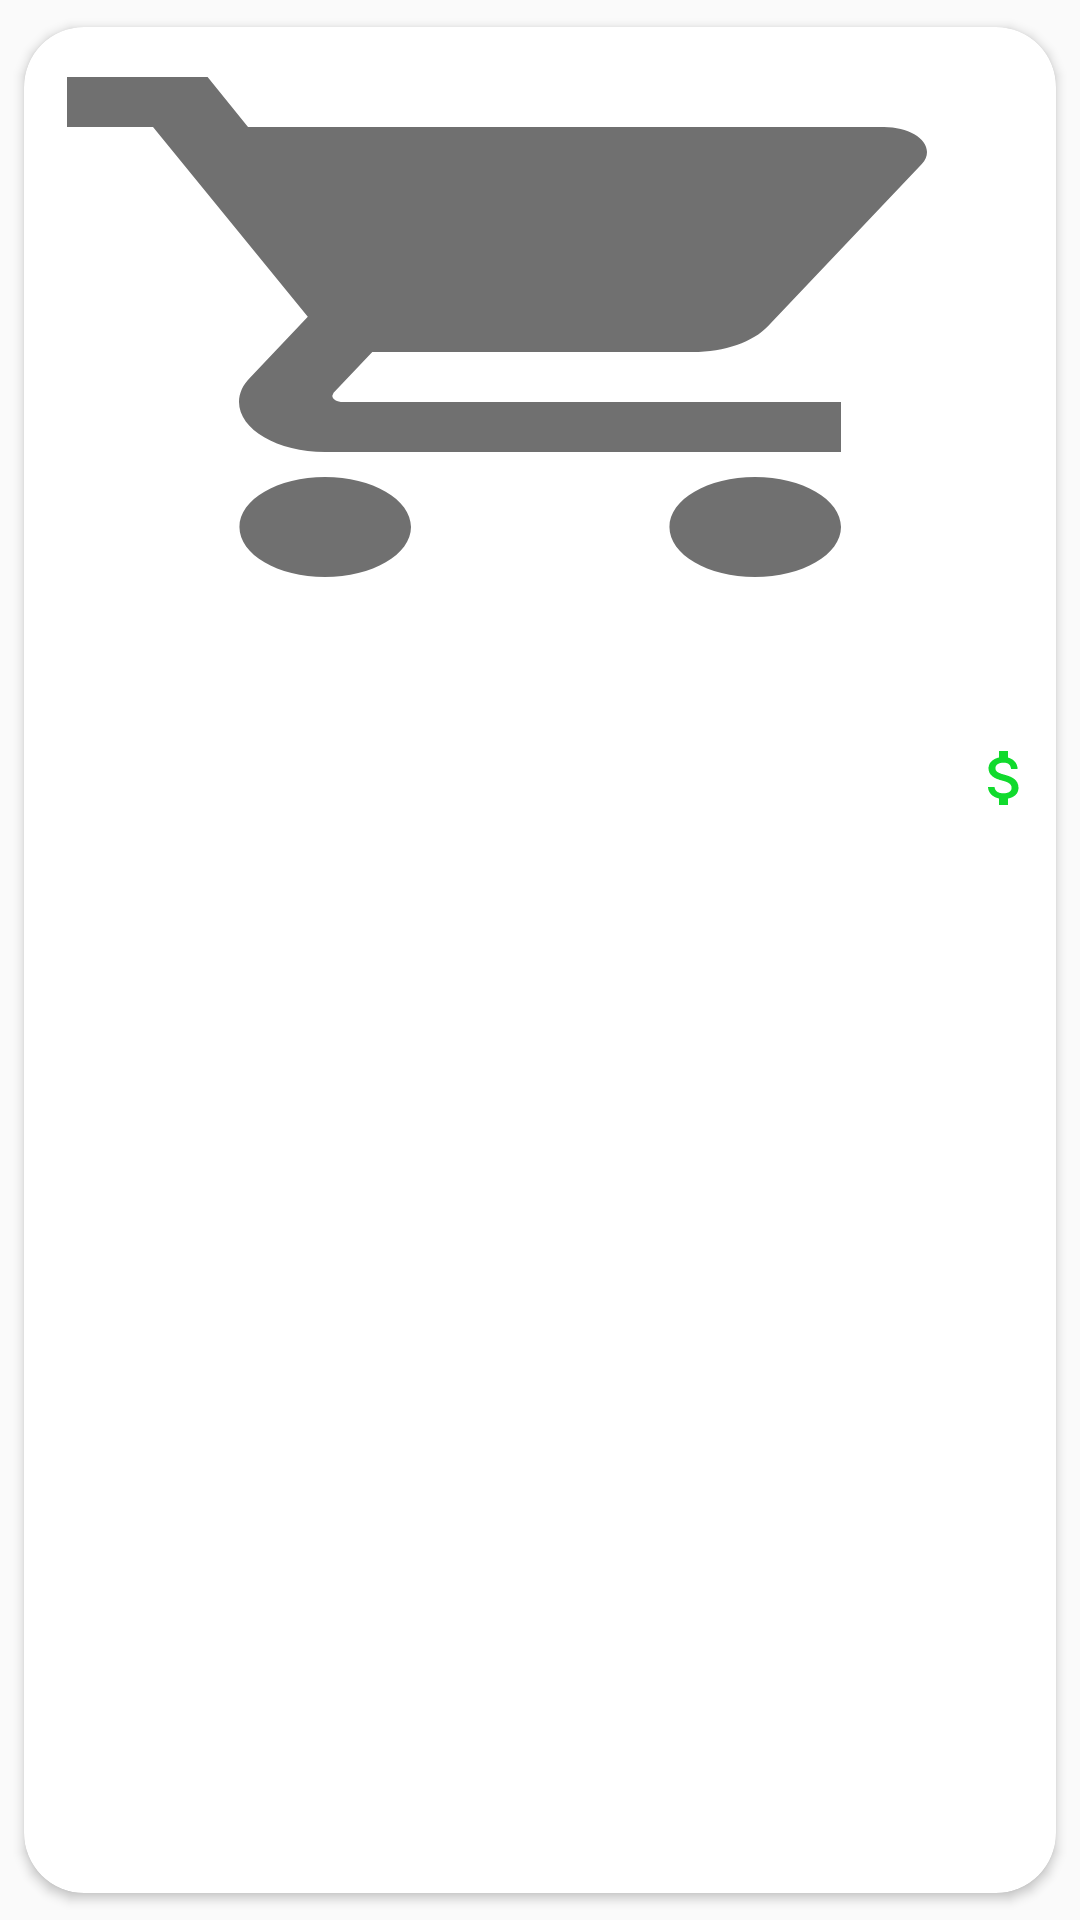

Named icons in this screenshot (1080 × 1920) and their centers, (x,y):
attach money: (1003,778)
